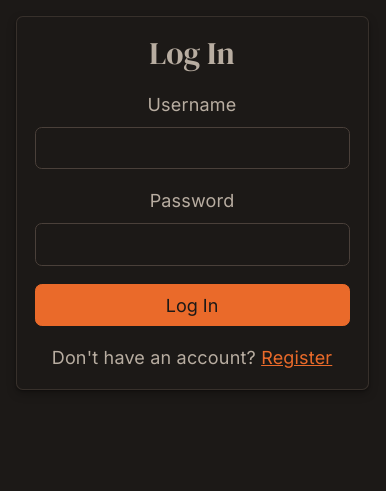
Scenario: LoginPage › shows an error message when login fails
The image size is (386, 491).
Type "jdoe" into the field labelled "Username". click: (192, 148)
box: [34,127,350,169]
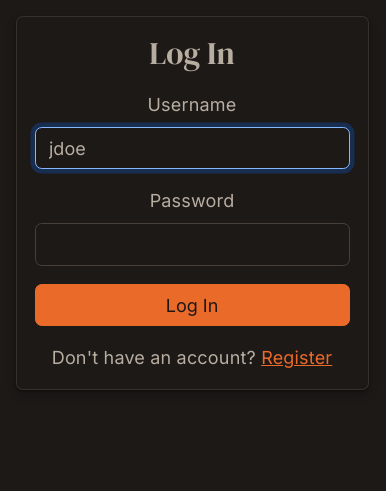
Type "wrong" into the password field labelled "Password". click: (192, 245)
box: [34,223,350,266]
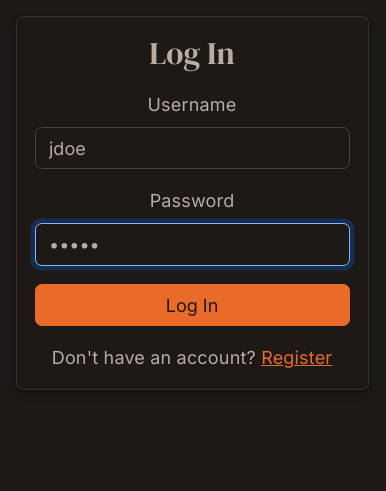
Click the button "Log In". click: (192, 305)
box: [34,284,350,326]
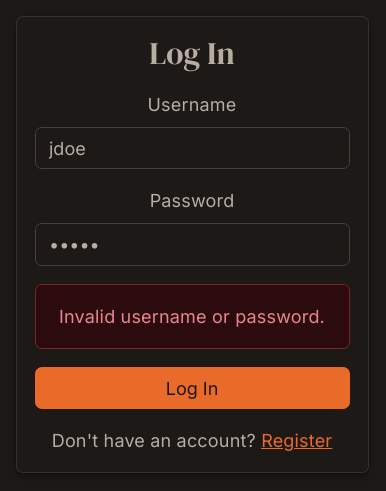
Now the message reads "Invalid username or password.", box [59,306,325,327]
